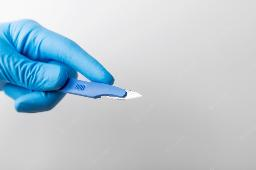scalpel: (58, 77, 142, 101)
